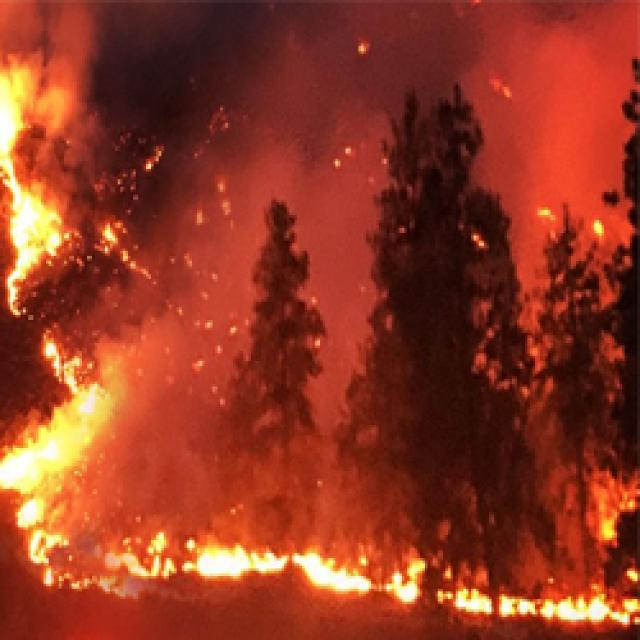Fire: (0, 326, 111, 591), (122, 522, 426, 607), (0, 58, 67, 320), (434, 554, 640, 638), (170, 246, 240, 398), (68, 212, 160, 302), (77, 124, 166, 199), (184, 102, 238, 162), (591, 484, 640, 543), (194, 182, 244, 228), (331, 138, 357, 172), (540, 197, 558, 234), (588, 222, 608, 242)
Smoke: (461, 0, 640, 348)
